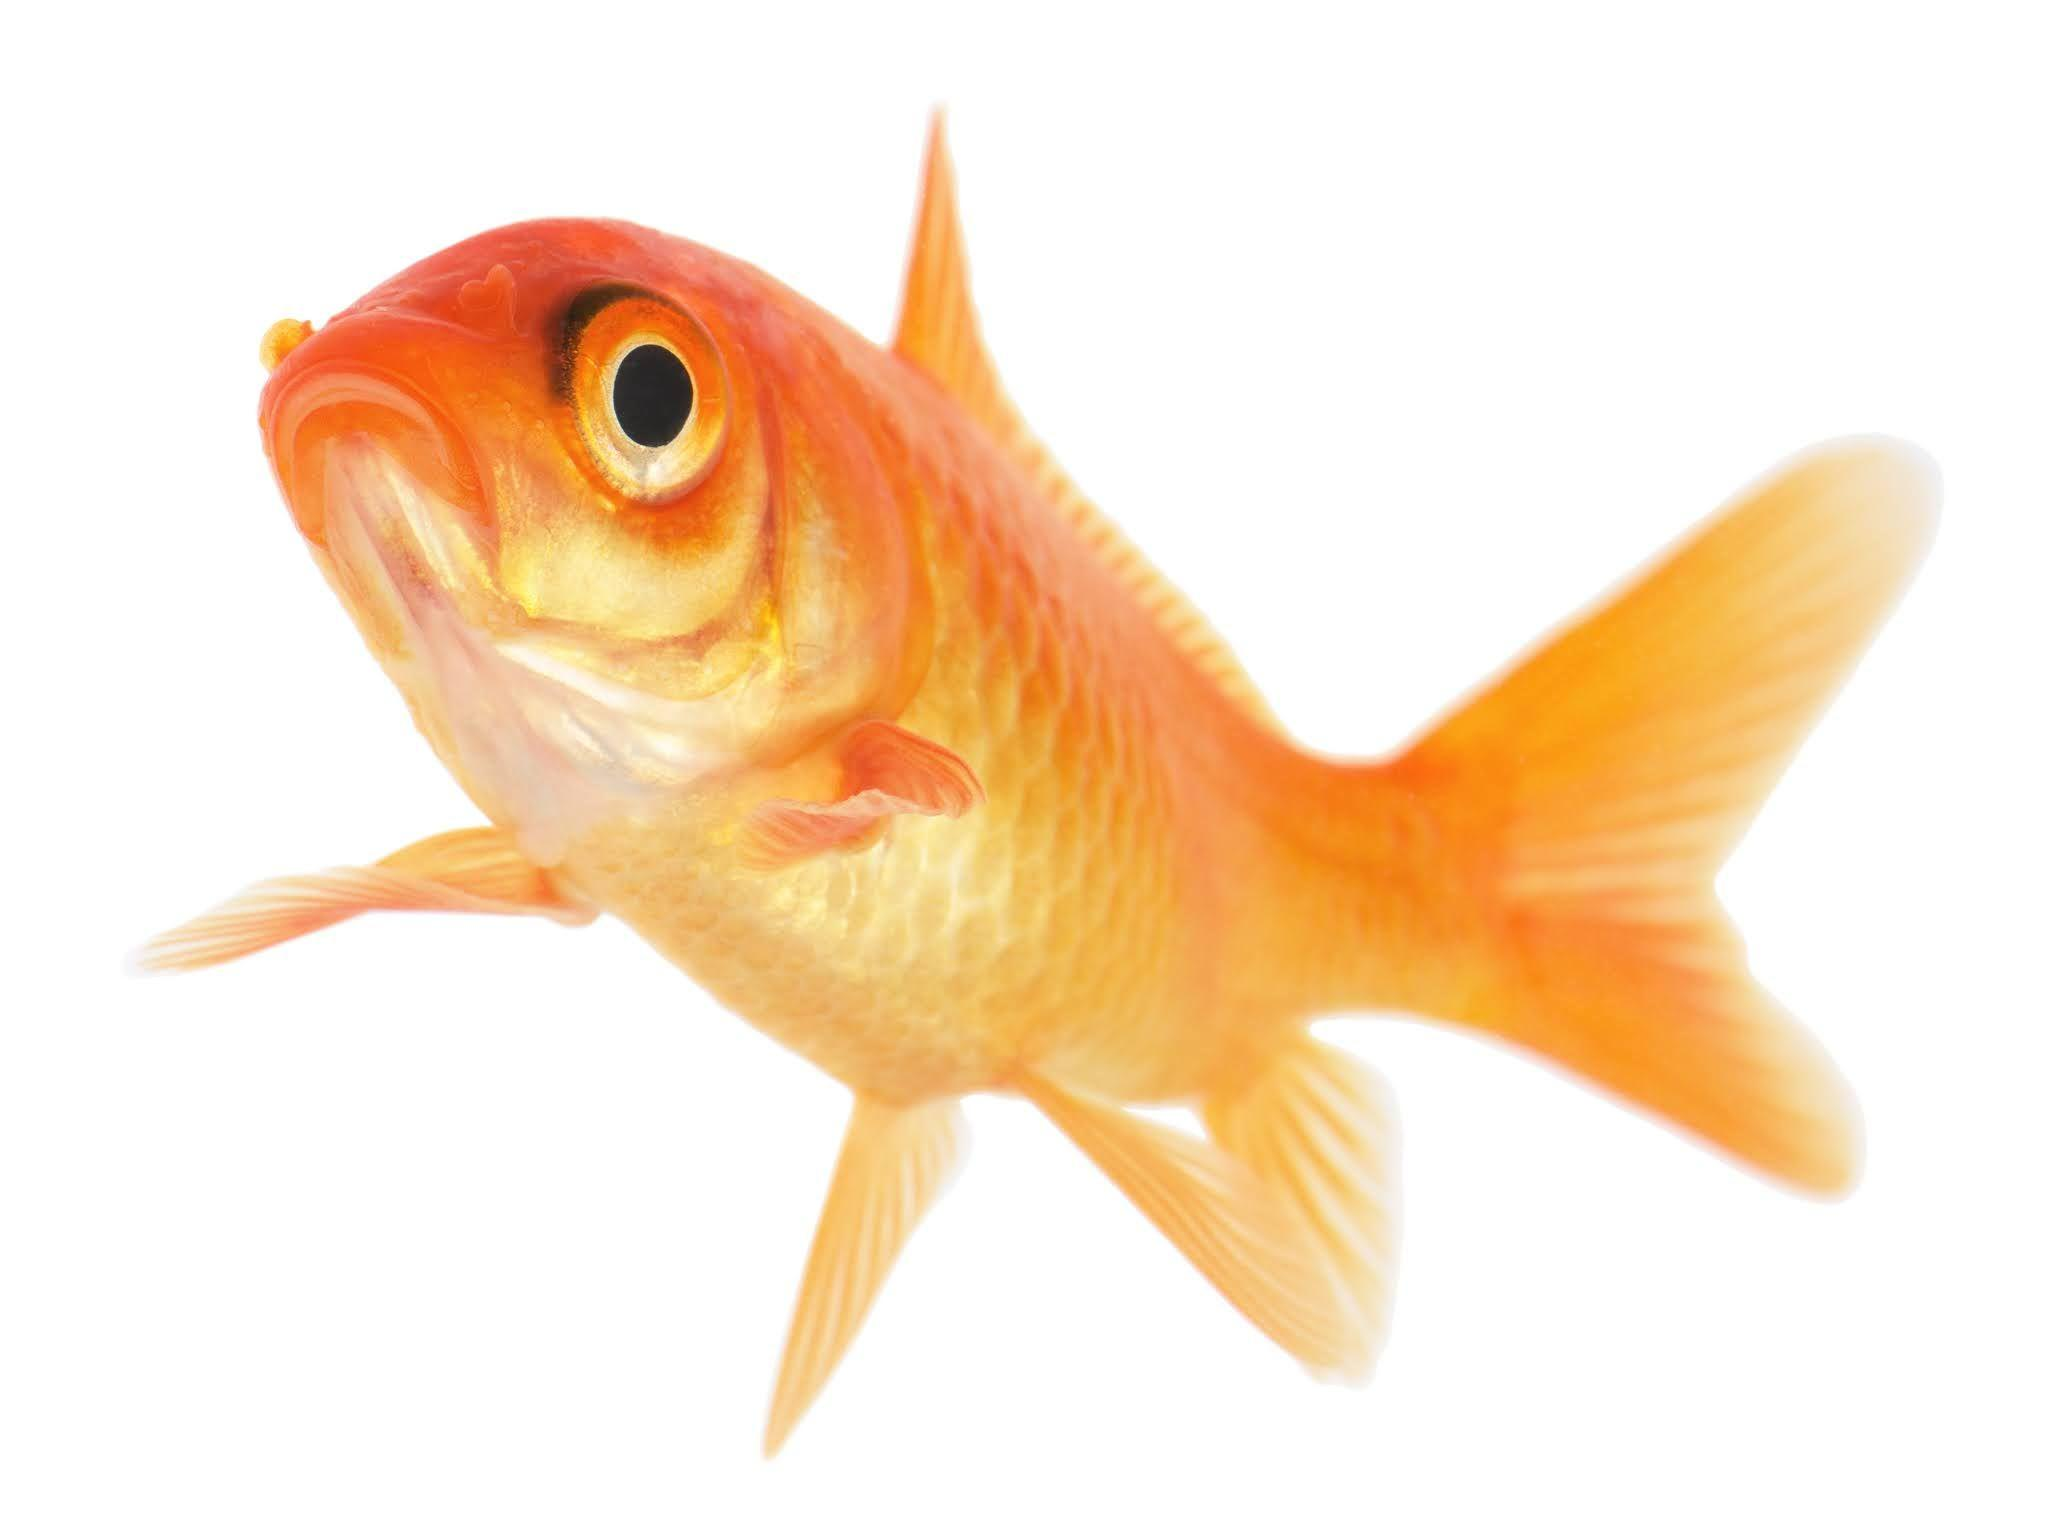Gold Fish: (124, 84, 1950, 1486)
